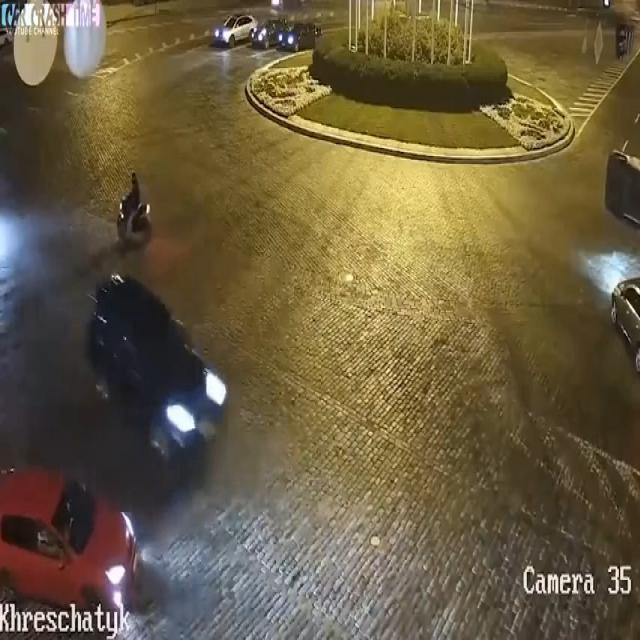Accident: (605, 109, 640, 253)
